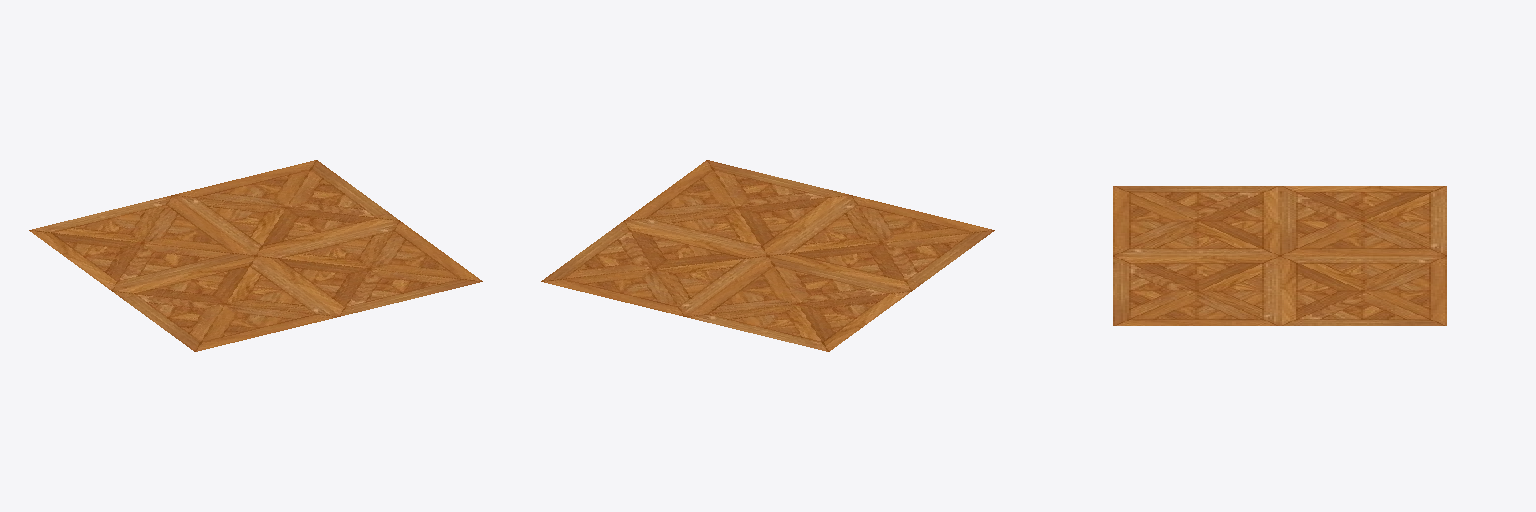
3 renders of one model, left to right at view 1: azimuth 30°, elevation 25°; view 2: azimuth 150°, elevation 25°; view 3: azimuth 270°, elevation 25°, orthographic.
Visible parts, largest first — view 1: Mesh_Plane; view 2: Mesh_Plane; view 3: Mesh_Plane.
Boxes of the visible parts, box(x1,y1,x2,y2) form: Mesh_Plane: box(29, 160, 482, 351); Mesh_Plane: box(541, 160, 994, 351); Mesh_Plane: box(1113, 186, 1446, 325).
Size of the model in its own units: 200 by 0 by 200.
1 materials, 1 textured.